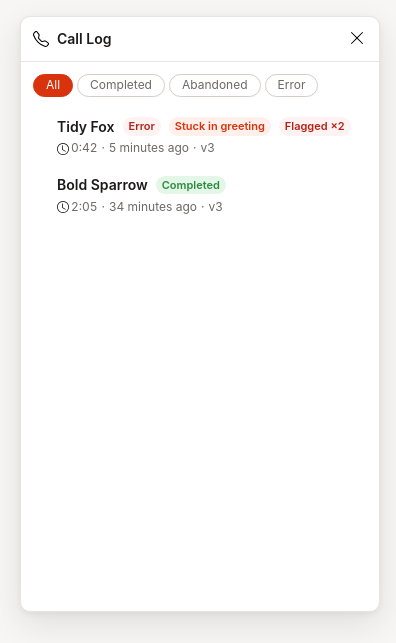
it: CallLogPane › filters by outcome on the server
Expected: the list named "Calls" is shown, x1=33 y1=109 x2=367 y2=224
Click the button "Completed" at (121, 85), box x1=77 y1=74 x2=165 y2=97
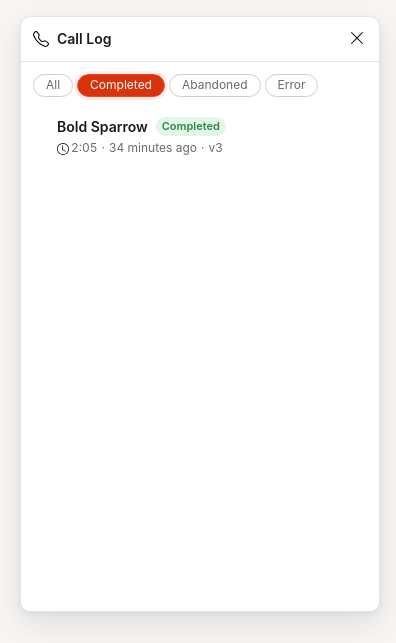
Expected: the number of list items is 1, x1=33 y1=109 x2=367 y2=165
